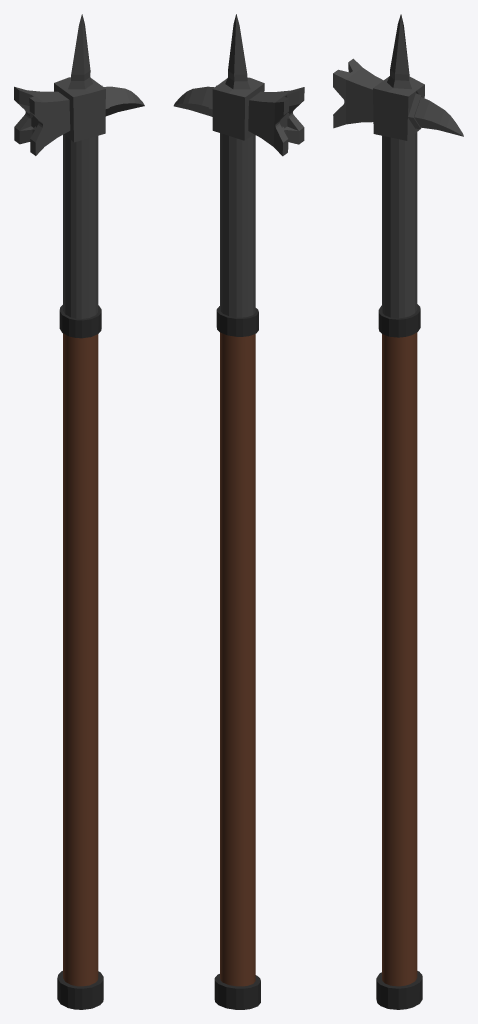
The model's file is HammerWar.fbx.
The picture shows the model from 3 angles, left to right: view 1: azimuth 30°, elevation 25°; view 2: azimuth 150°, elevation 25°; view 3: azimuth 330°, elevation 25°; orthographic projection.
Parts seen in each view (by area): view 1: HammerWar; view 2: HammerWar; view 3: HammerWar.
Boxes of the visible parts, bbox=[...] form: HammerWar: bbox=[14, 14, 144, 1009]; HammerWar: bbox=[173, 14, 304, 1009]; HammerWar: bbox=[333, 14, 463, 1009].
Size of the model in its own units: 0.8654 by 6.77 by 0.2888.
